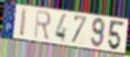4: (53, 13, 68, 44)
5: (106, 19, 126, 51)
7: (71, 14, 88, 45)
9: (89, 16, 106, 49)
I: (18, 7, 28, 38)
R: (33, 9, 53, 41)
